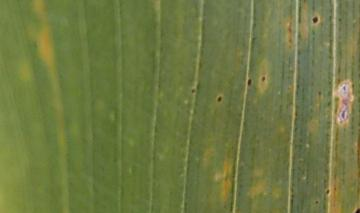tarspot: (247, 78, 253, 88), (190, 87, 197, 95), (312, 16, 319, 23), (325, 188, 331, 195), (314, 199, 320, 205), (354, 207, 360, 213), (217, 96, 222, 103), (262, 75, 266, 82)
